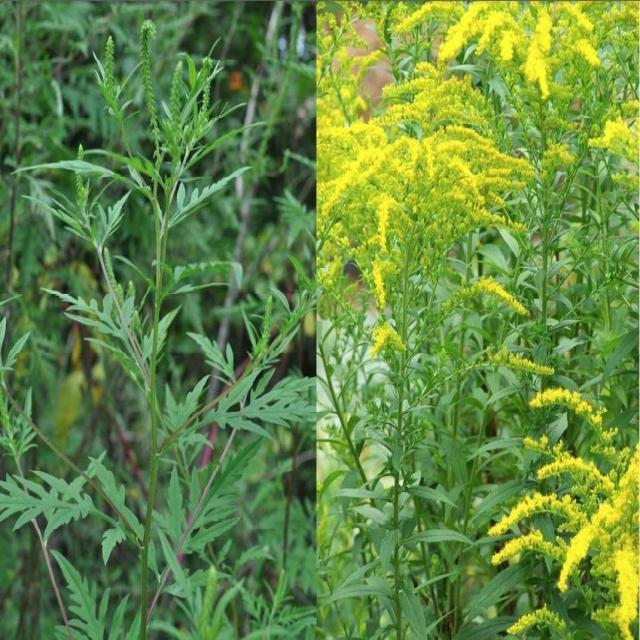ambrosia: (90, 12, 250, 190), (486, 4, 640, 146), (520, 455, 640, 625), (340, 105, 492, 239), (436, 252, 564, 398), (44, 133, 125, 281), (237, 286, 301, 382)
